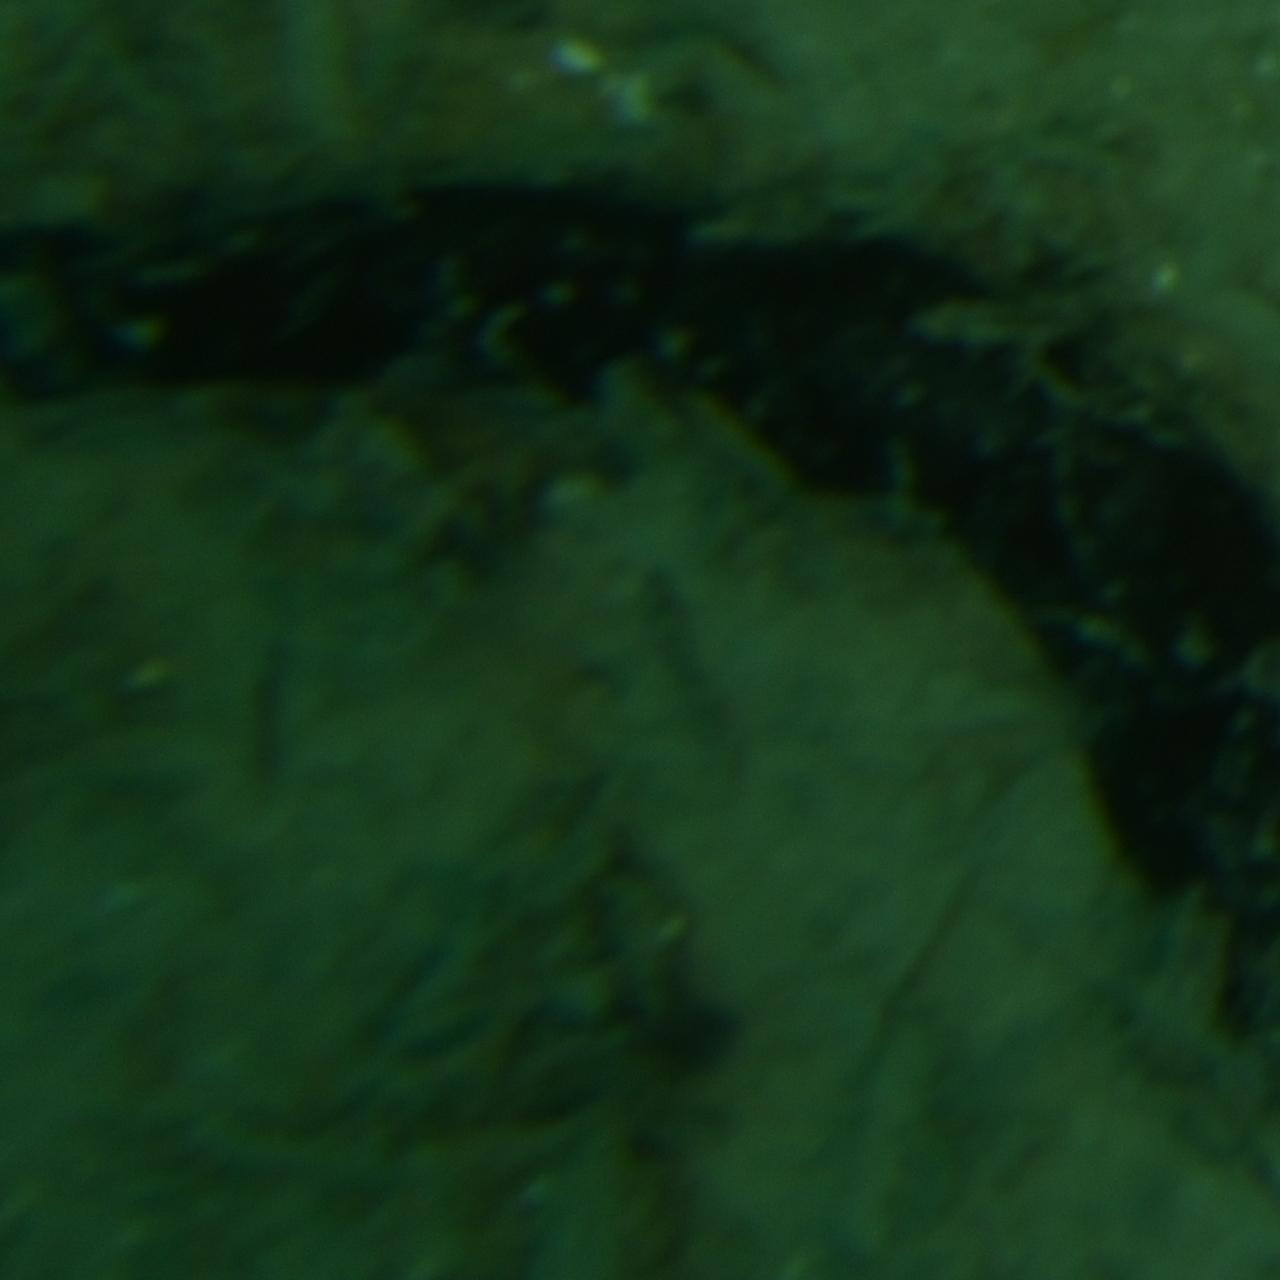Holothuria tubulosa: (0, 196, 1280, 1084)
